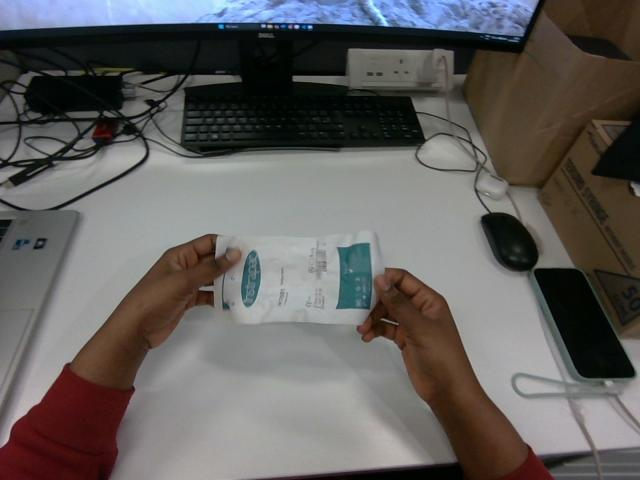gallipot: (214, 231, 383, 324)
